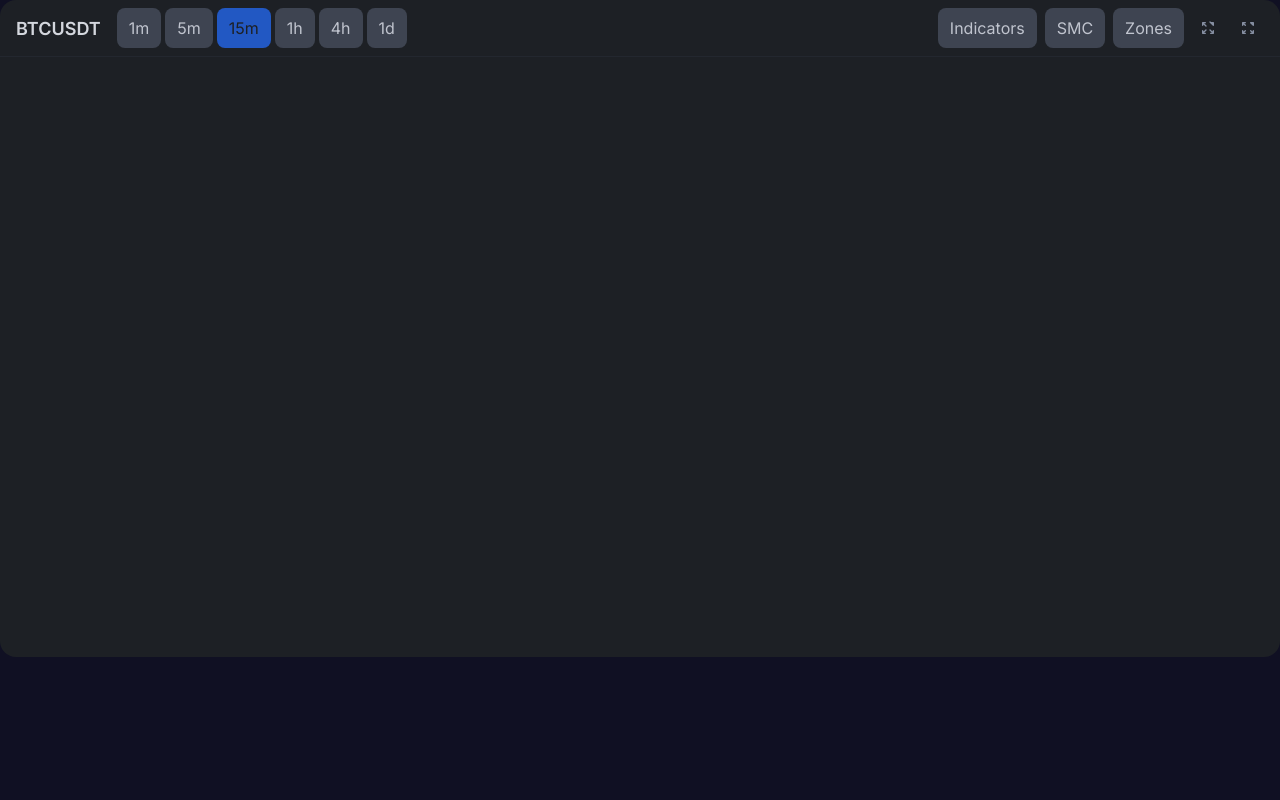
it: Chart › SMC overlays › should toggle SMC overlay visibility
The width and height of the screenshot is (1280, 800).
Click the button with test id "smc-overlay-toggle": (1075, 28) x1=1045 y1=8 x2=1105 y2=48
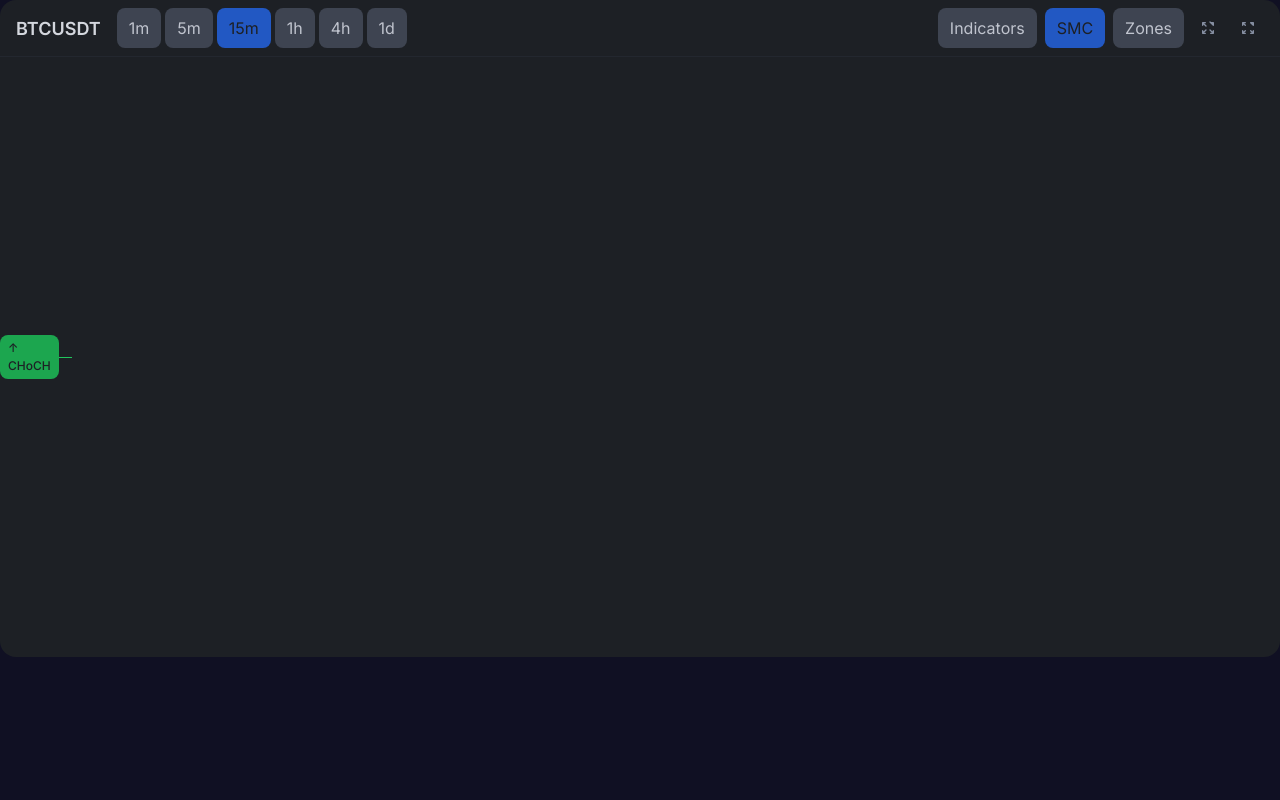
Check: the element with test id "smc-overlays" is shown, box x1=0 y1=335 x2=59 y2=379
